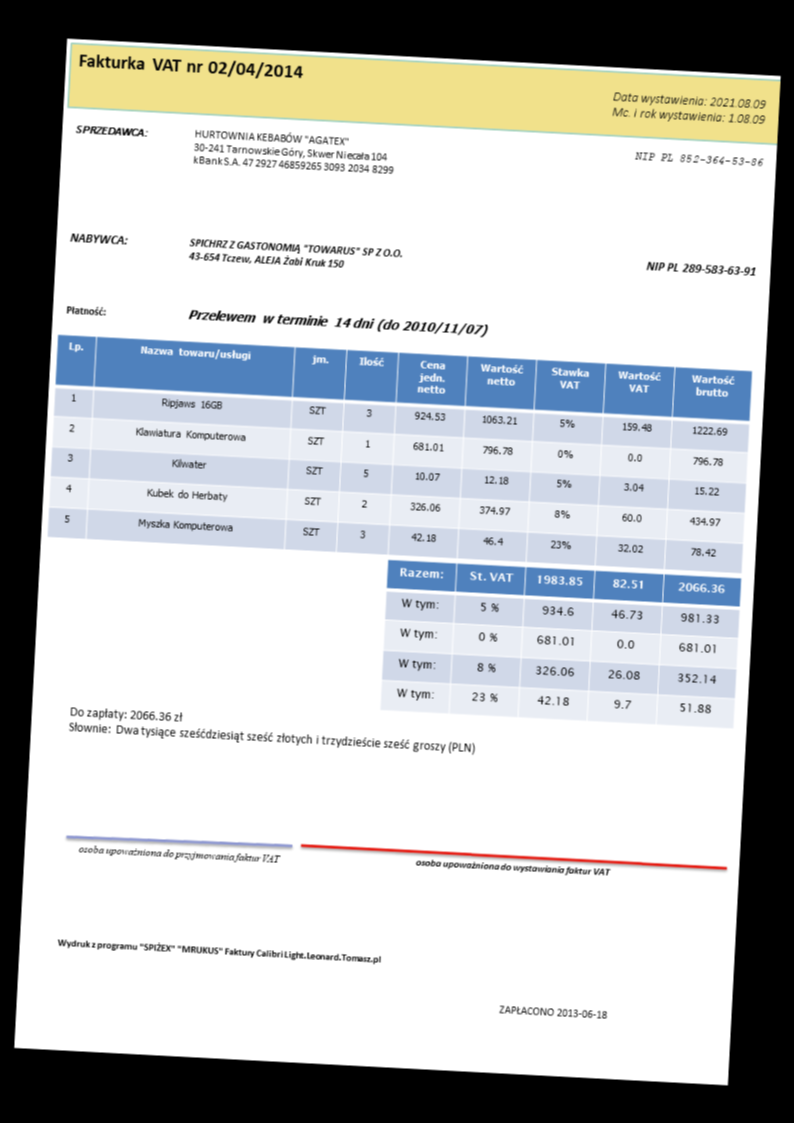Table: (45, 332, 752, 574), (378, 557, 741, 729)
TextBox: (65, 703, 477, 757), (184, 306, 490, 340), (55, 935, 384, 966), (190, 126, 397, 175), (186, 234, 404, 273), (76, 50, 305, 82), (609, 88, 769, 127), (75, 842, 282, 866), (414, 855, 611, 880), (631, 147, 765, 169), (644, 259, 759, 278), (496, 1002, 611, 1020), (73, 121, 149, 138), (66, 228, 130, 247), (62, 302, 108, 317)
